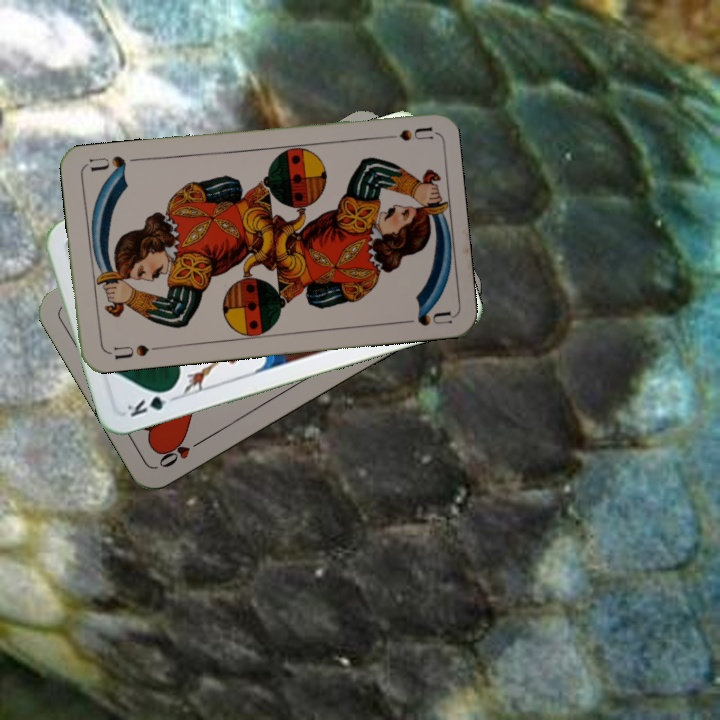GK: (123, 385, 180, 420)
HO: (154, 434, 208, 471)
SU: (103, 340, 163, 362), (373, 123, 433, 144)
